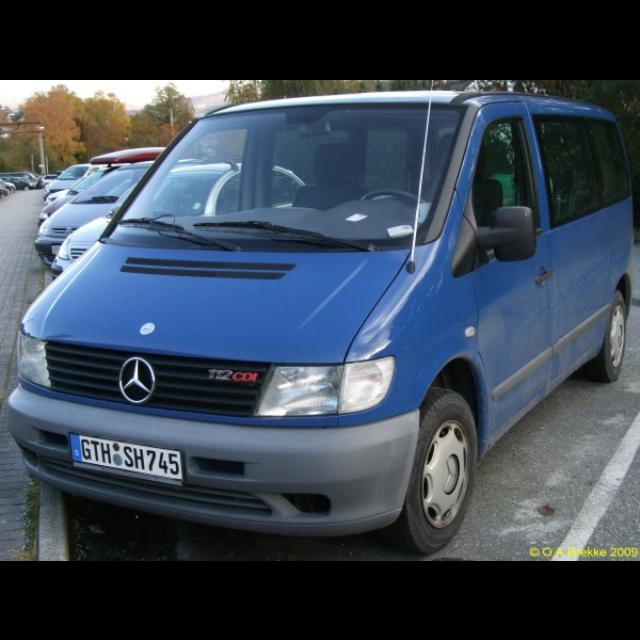d_license_plate: (68, 429, 182, 479)
